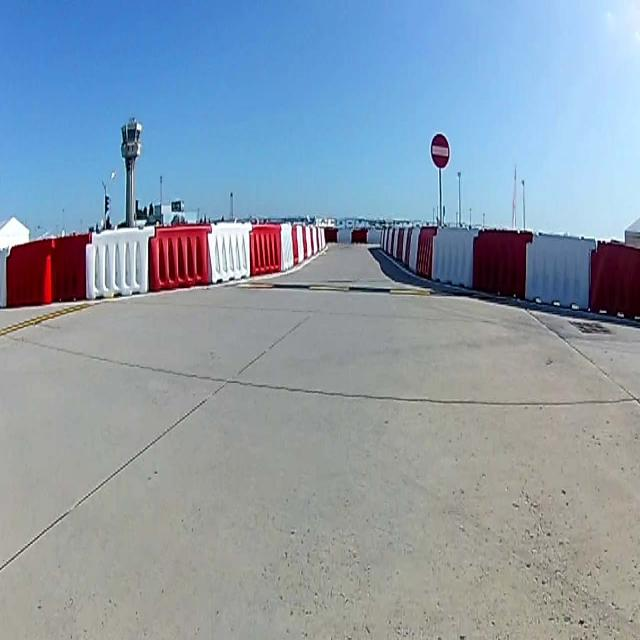girisyok: (430, 129, 450, 173)
